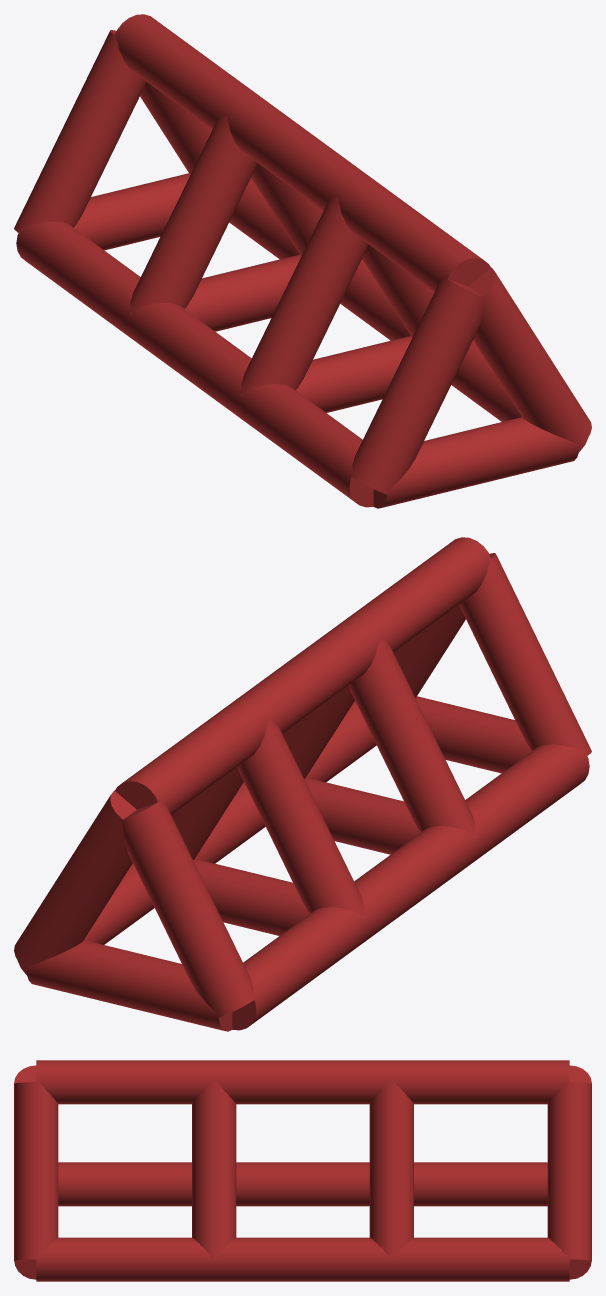
The model's file is Crane 3.fbx.
The picture shows the model from 3 angles, top to bottom: view 1: azimuth 30°, elevation 25°; view 2: azimuth 150°, elevation 25°; view 3: azimuth 270°, elevation 25°; orthographic projection. The views are drawn at different scales.
Parts seen in each view (by area): view 1: polySurface3; view 2: polySurface3; view 3: polySurface3.
Boxes of the visible parts, box(x1,y1,x2,y2) form: polySurface3: box(14, 14, 591, 508); polySurface3: box(14, 537, 591, 1031); polySurface3: box(14, 1060, 591, 1281).
Size of the model in its own units: 10 by 8.93 by 26.
